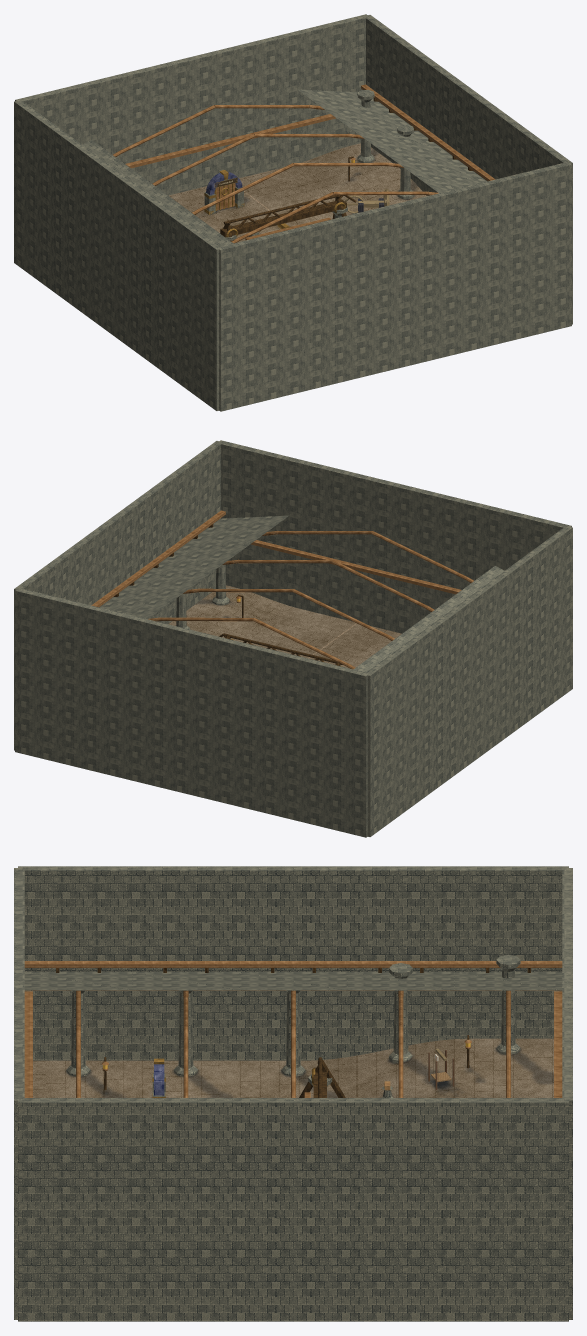
File: WeighHouse-8d7b18912200.glb
The picture shows the model from 3 angles, top to bottom: view 1: azimuth 30°, elevation 25°; view 2: azimuth 150°, elevation 25°; view 3: azimuth 270°, elevation 25°; orthographic projection. The views are drawn at different scales.
Visible parts, largest first — view 1: C_Solids, Rim, Terrain, Set; view 2: C_Solids, Rim, Terrain, Set; view 3: C_Solids, Rim, Terrain, Set.
Part boxes in pixels (x1,y1,x2,y2): C_Solids: (14, 14, 572, 411); Rim: (82, 84, 495, 246); Terrain: (168, 143, 426, 242); Set: (204, 89, 413, 241); C_Solids: (14, 440, 572, 837); Rim: (91, 510, 504, 672); Terrain: (168, 585, 401, 668); Set: (106, 564, 342, 666); C_Solids: (14, 866, 572, 1321); Rim: (24, 961, 562, 1097); Terrain: (33, 1038, 553, 1097); Set: (66, 955, 520, 1097).
Size of the model in its own units: 41.6 by 18 by 41.6.
11 materials, 11 textured.
